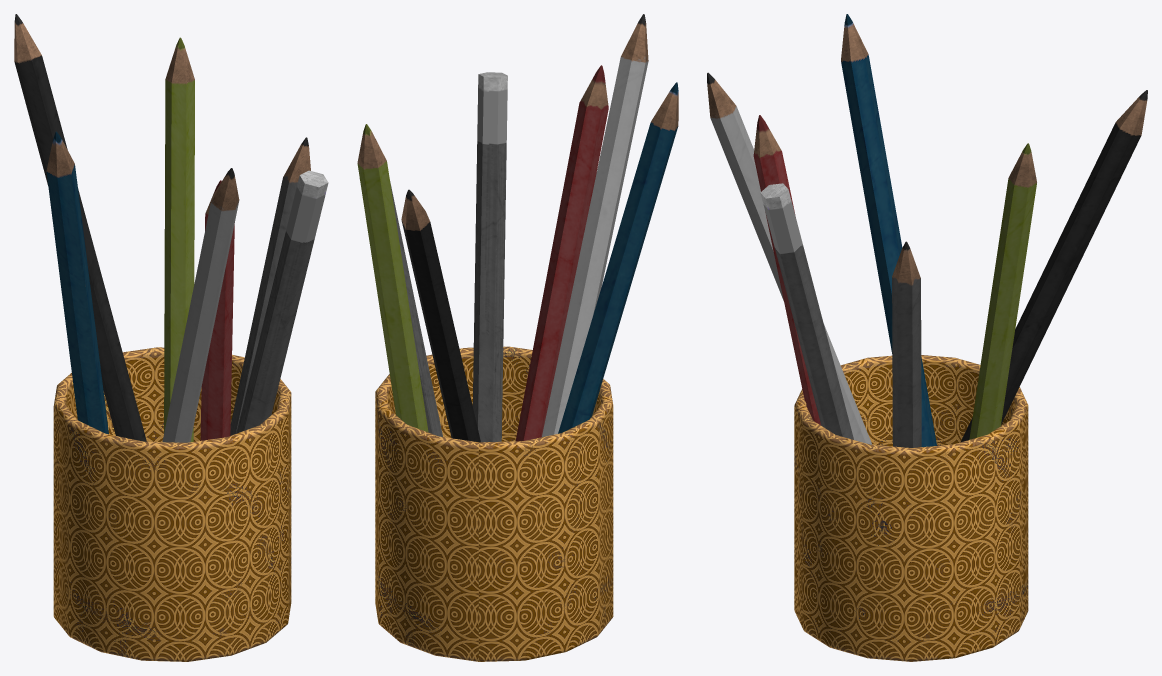
The model's file is pens_with_pencil_holder_-_desk_props.glb.
The picture shows the model from 3 angles, left to right: view 1: azimuth 30°, elevation 25°; view 2: azimuth 150°, elevation 25°; view 3: azimuth 270°, elevation 25°; orthographic projection. The views are drawn at different scales.
Visible parts, largest first — view 1: Penholder.001_2; view 2: Penholder.001_2; view 3: Penholder.001_2.
Boxes of the visible parts, x1,y1,x2,y2 form: Penholder.001_2: (14,14,328,661); Penholder.001_2: (357,14,678,661); Penholder.001_2: (707,14,1147,661).
Bounding box in the file's own units: 0.1383 × 0.2494 × 0.1884.
3 materials, 3 textured.
